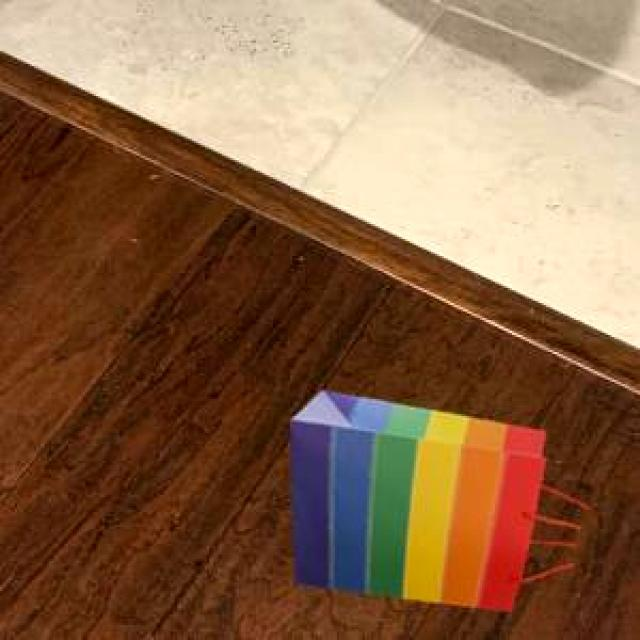Paper_Bag: (287, 387, 543, 609)
